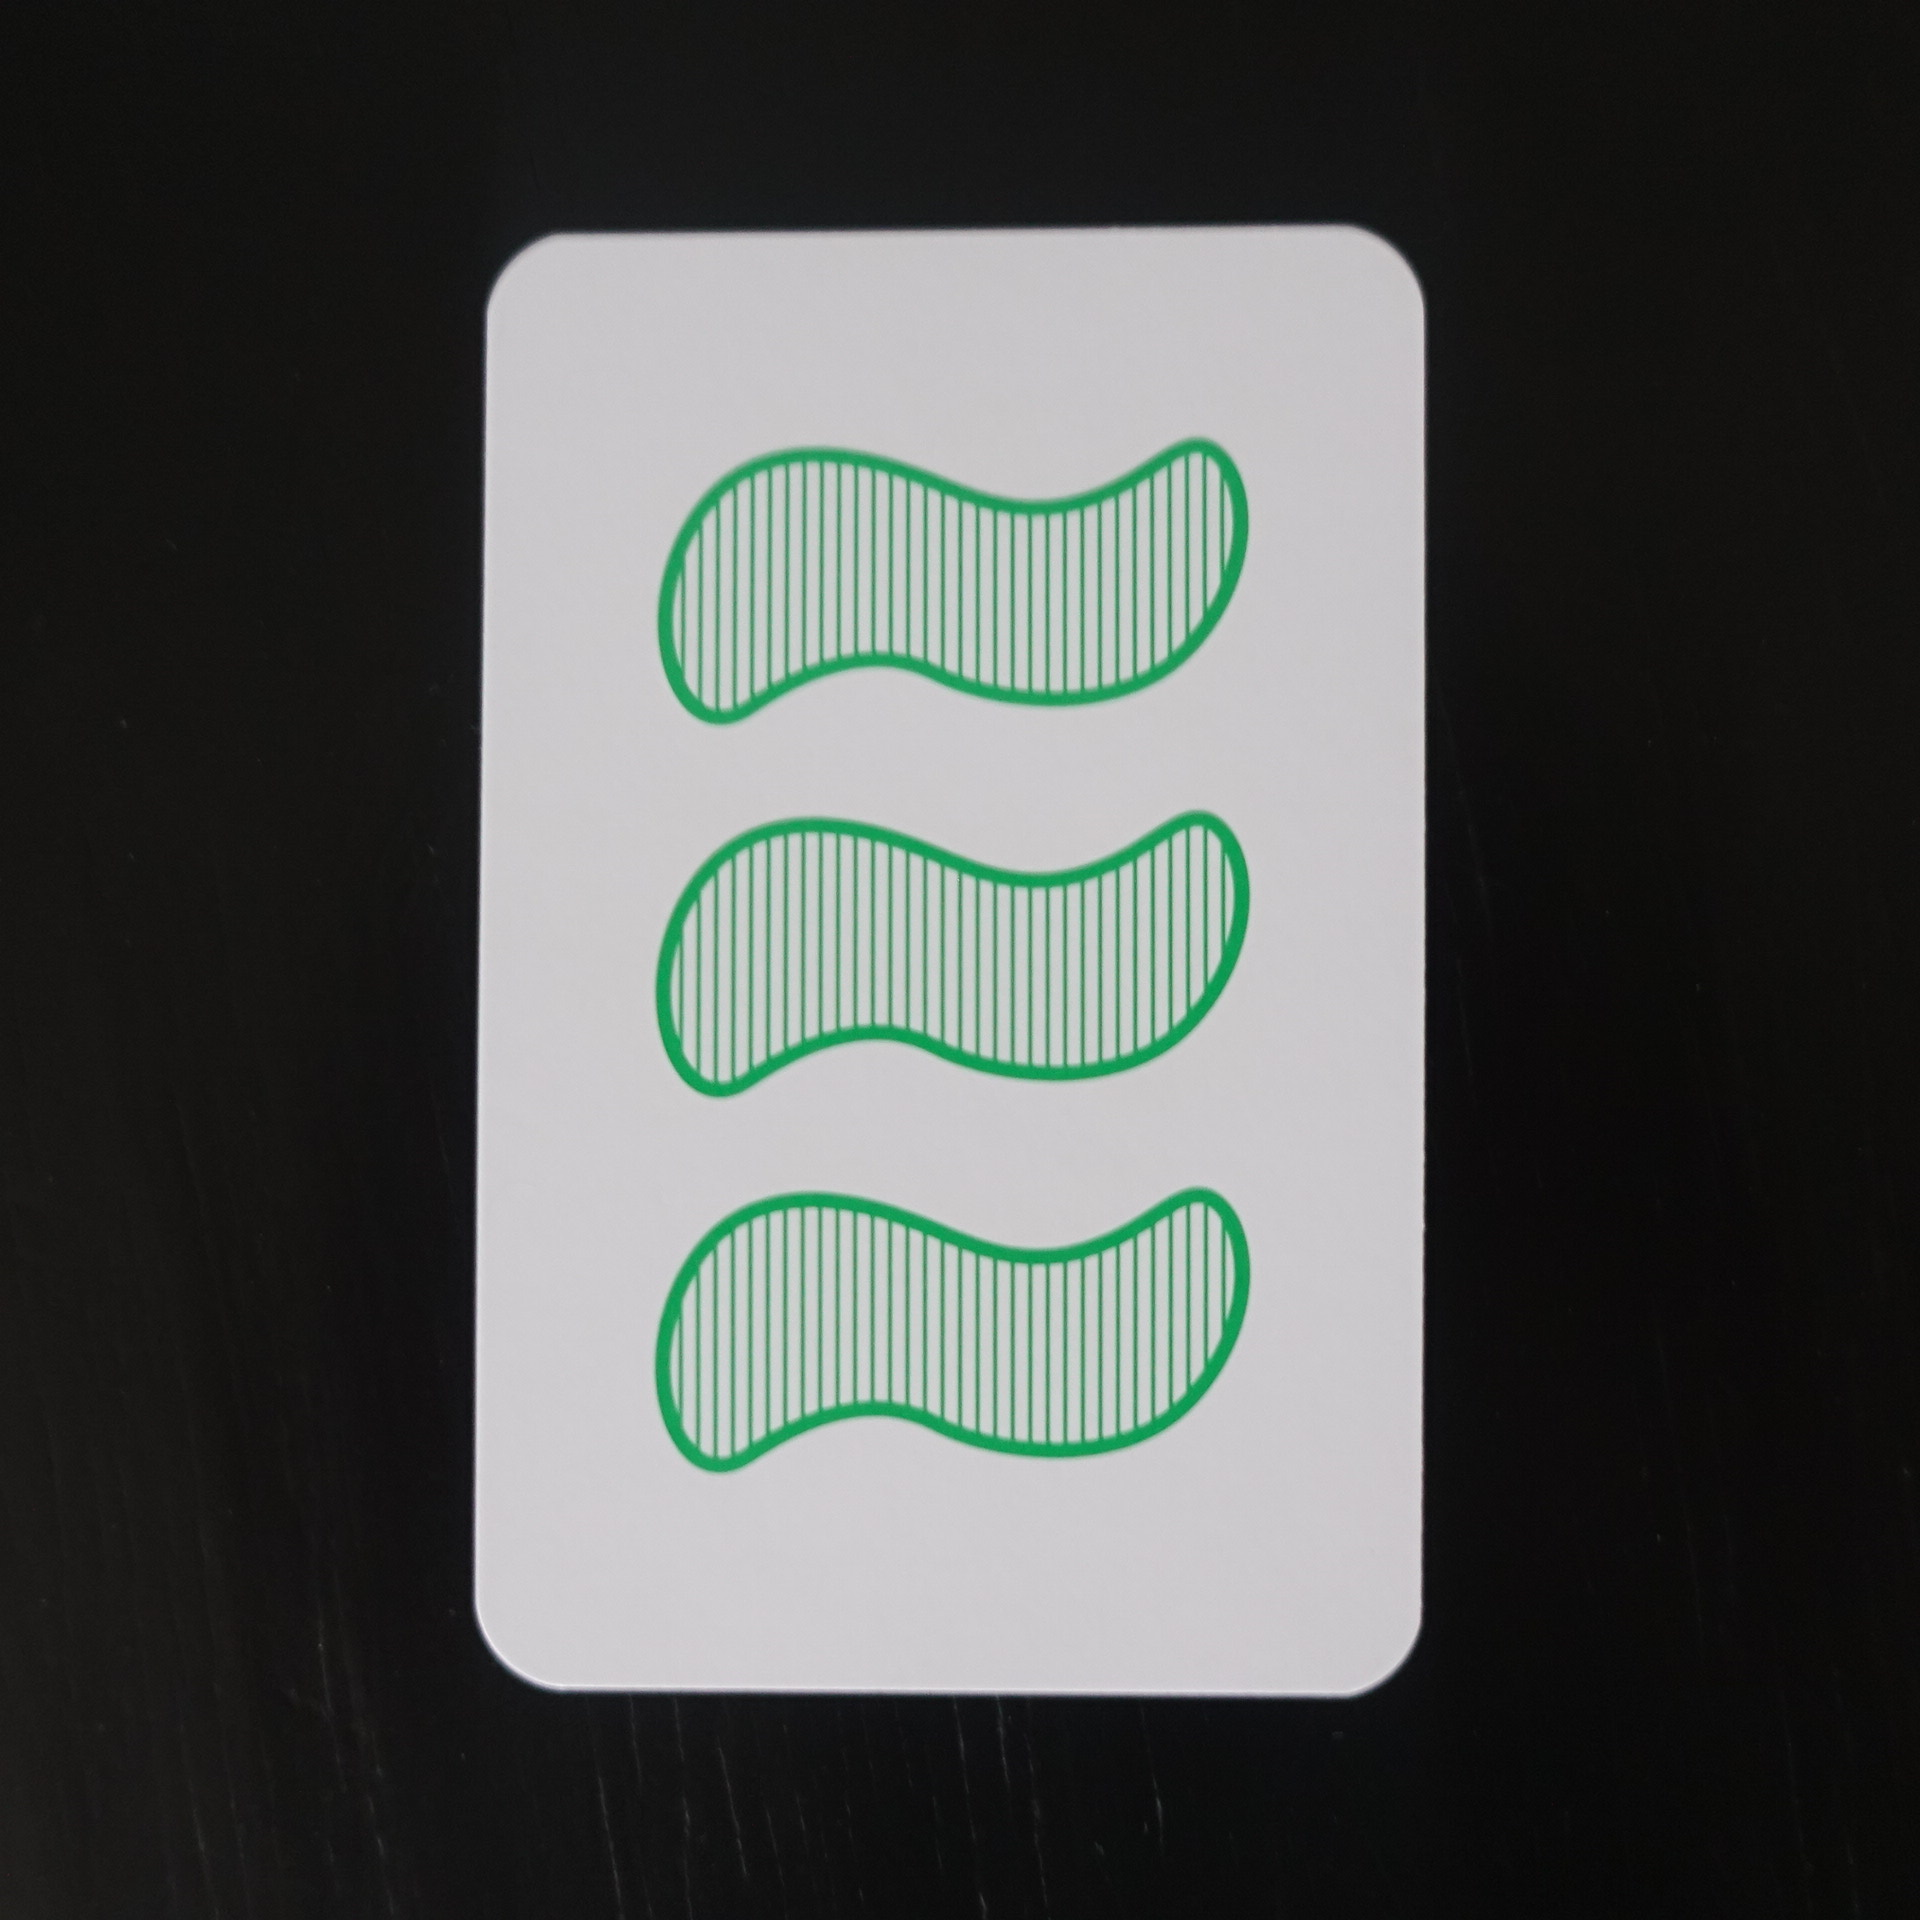c-3-h-s-g: (436, 206, 1454, 1713)
